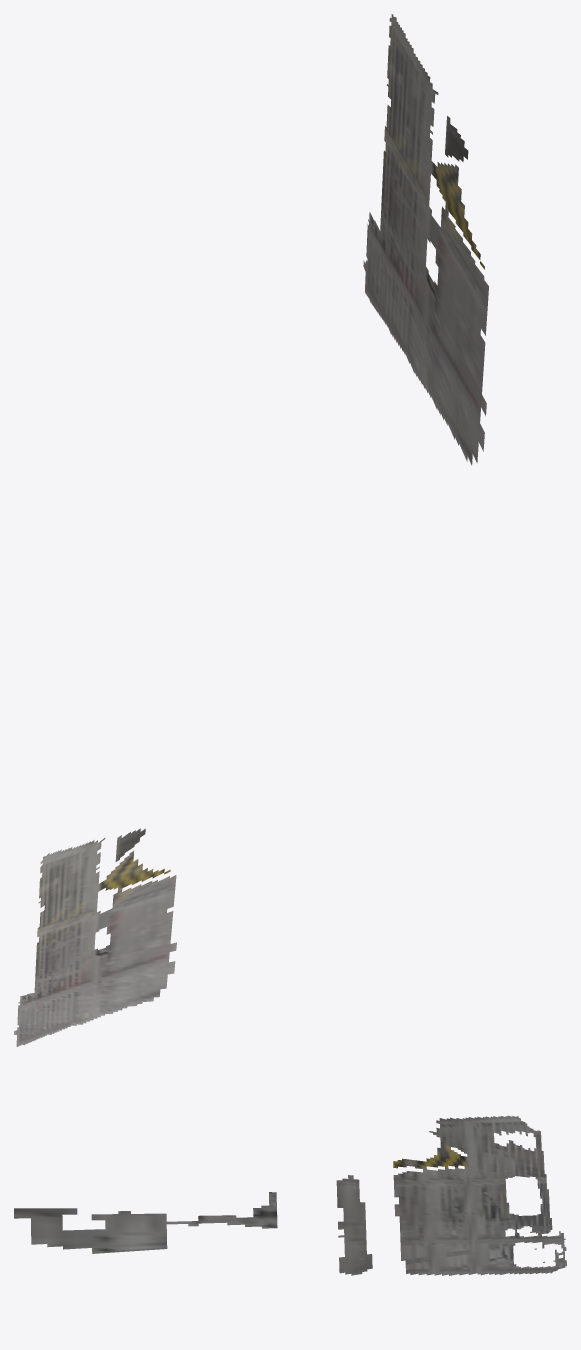
The model's file is fence-surface.glb.
3 renders of one model, top to bottom at view 1: azimuth 30°, elevation 25°; view 2: azimuth 150°, elevation 25°; view 3: azimuth 270°, elevation 25°, orthographic. The views are drawn at different scales.
Visible parts, largest first — view 1: panel-0-view4; view 2: panel-0-view4; view 3: panel-1-view2.
Boxes of the visible parts, x1,y1,x2,y2 form: panel-0-view4: [363, 14, 488, 465]; panel-0-view4: [14, 828, 176, 1046]; panel-1-view2: [14, 1115, 566, 1275].
Size of the model in its own units: 5.46 by 4.17 by 11.97.
